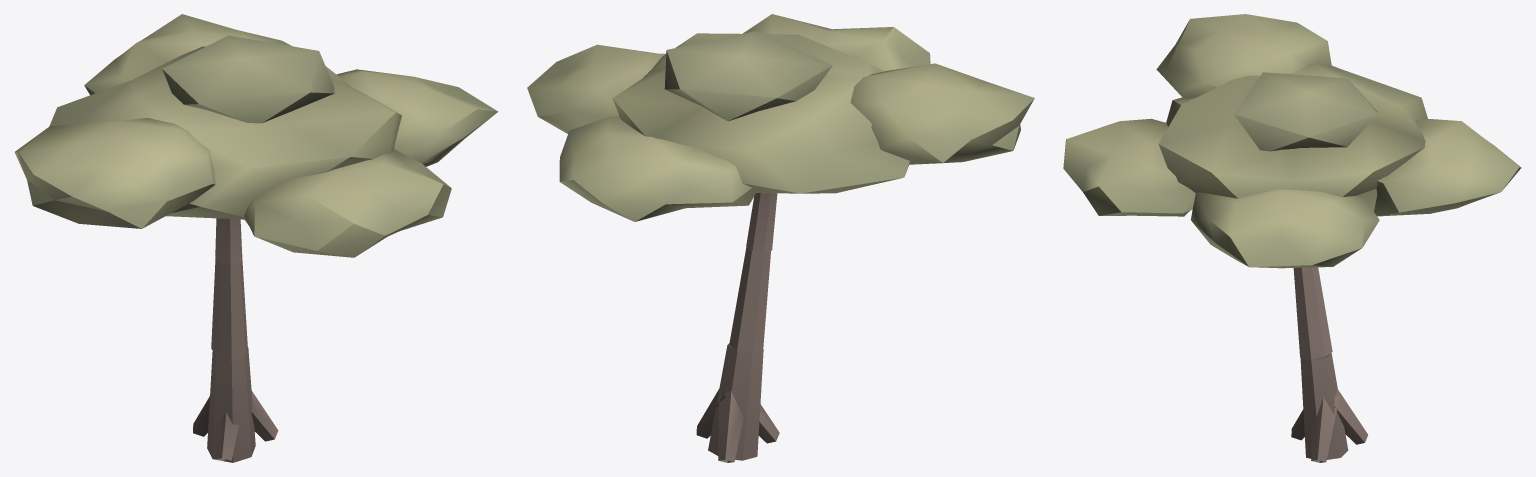
Rendered from flat_tree_a.glb.
3 views of the same model, side by side, from view 1: azimuth 30°, elevation 25°; view 2: azimuth 150°, elevation 25°; view 3: azimuth 270°, elevation 25° (orthographic). The views are drawn at different scales.
Visible parts, largest first — view 1: flat_tree_a; view 2: flat_tree_a; view 3: flat_tree_a.
Boxes of the visible parts, x1=… form: flat_tree_a: x1=14, y1=14, x2=498, y2=462; flat_tree_a: x1=527, y1=14, x2=1034, y2=462; flat_tree_a: x1=1063, y1=14, x2=1521, y2=462.
Size of the model in its own units: 6.28 by 5.15 by 5.9.
